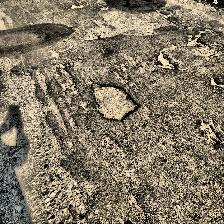pothole: (90, 80, 140, 122), (200, 120, 222, 142), (157, 51, 177, 70), (185, 34, 207, 48)
